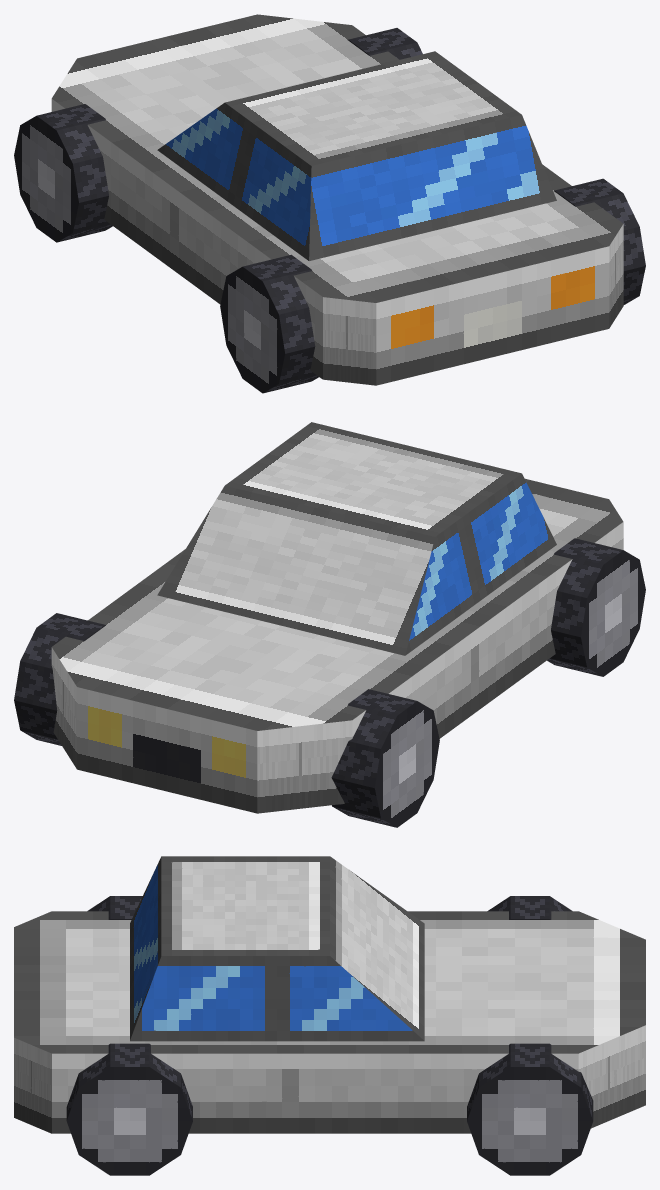
The model's file is car_base0.glb.
3 renders of one model, top to bottom at view 1: azimuth 30°, elevation 25°; view 2: azimuth 150°, elevation 25°; view 3: azimuth 270°, elevation 25°, orthographic. The views are drawn at different scales.
Parts seen in each view (by area): view 1: Body, Cabin, Wheel_RL, Wheel_FL, Wheel_RR, Wheel_FR; view 2: Body, Cabin, Wheel_FL, Wheel_RL, Wheel_FR; view 3: Body, Cabin, Wheel_FR, Wheel_RR, Wheel_FL, Wheel_RL.
Part boxes in pixels (bbox=[...]): Body: bbox=[51, 14, 623, 385]; Cabin: bbox=[157, 51, 556, 260]; Wheel_RL: bbox=[220, 254, 318, 393]; Wheel_FL: bbox=[14, 104, 112, 242]; Wheel_RR: bbox=[554, 178, 645, 304]; Wheel_FR: bbox=[348, 28, 422, 59]; Body: bbox=[51, 478, 623, 813]; Cabin: bbox=[157, 422, 556, 655]; Wheel_FL: bbox=[331, 689, 439, 827]; Wheel_RL: bbox=[547, 538, 645, 676]; Wheel_FR: bbox=[14, 613, 105, 745]; Body: bbox=[14, 911, 645, 1133]; Cabin: bbox=[130, 856, 424, 1041]; Wheel_FR: bbox=[467, 1043, 593, 1175]; Wheel_RR: bbox=[66, 1043, 192, 1175]; Wheel_FL: bbox=[487, 896, 572, 919]; Wheel_RL: bbox=[87, 896, 142, 919].
Size of the model in its own units: 1.92 by 0.9653 by 3.
1 material, 1 textured.
